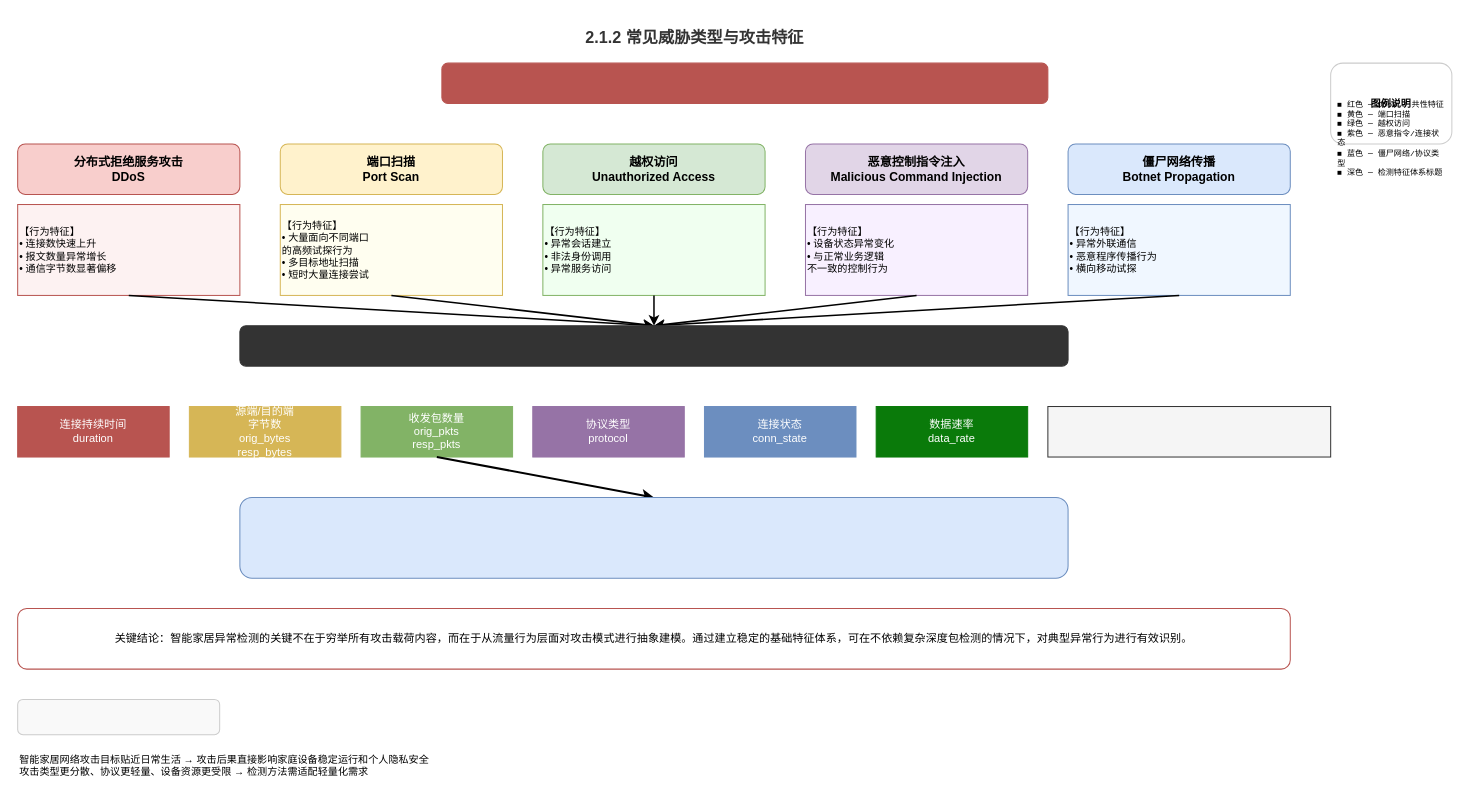
The diagram is 1470 pixels wide and 807 high, and some of its shapes have lost their labels. Each missing label, with the centre of its shape:
【轻量化异常检测方法】 从流量行为层面对攻击模式进行抽象建模，建立稳定的基础特征体系 → 不依赖复杂深度包检测 → 有效识别典型异常行为: (x=653, y=537)
与传统办公网络对比: (x=118, y=716)
以上五种攻击虽然表现形式不同，但均会引起这六项统计特征的变化: (x=1189, y=431)
共性检测特征体系（流量行为层面）: (x=653, y=345)
智能家居网络安全威胁: (x=744, y=83)
